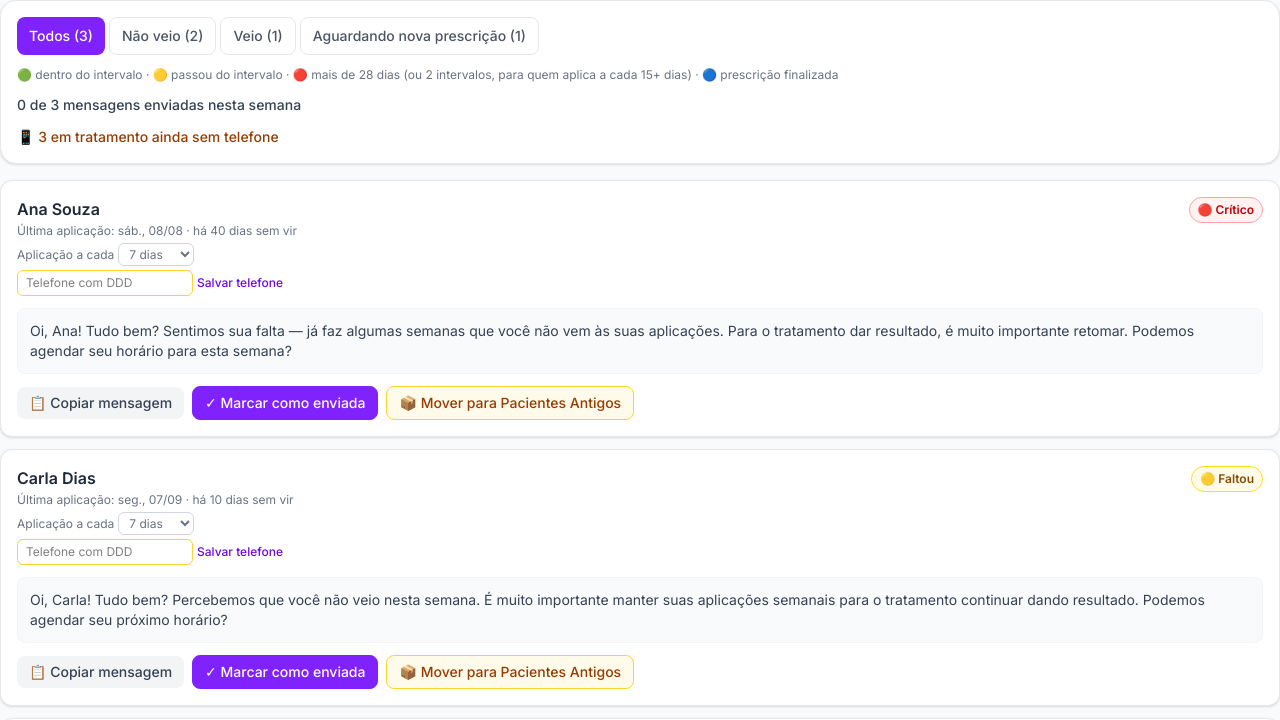
Test: EmTratamento › marca como enviada, mostra quem marcou e atualiza o contador
Expected: the text "0 de 3 mensagens enviadas nesta semana" is shown, [17,96,301,113]
Click the button "✓ Marcar como enviada" below "Carla Dias" at point(285, 672), box [192,655,378,689]
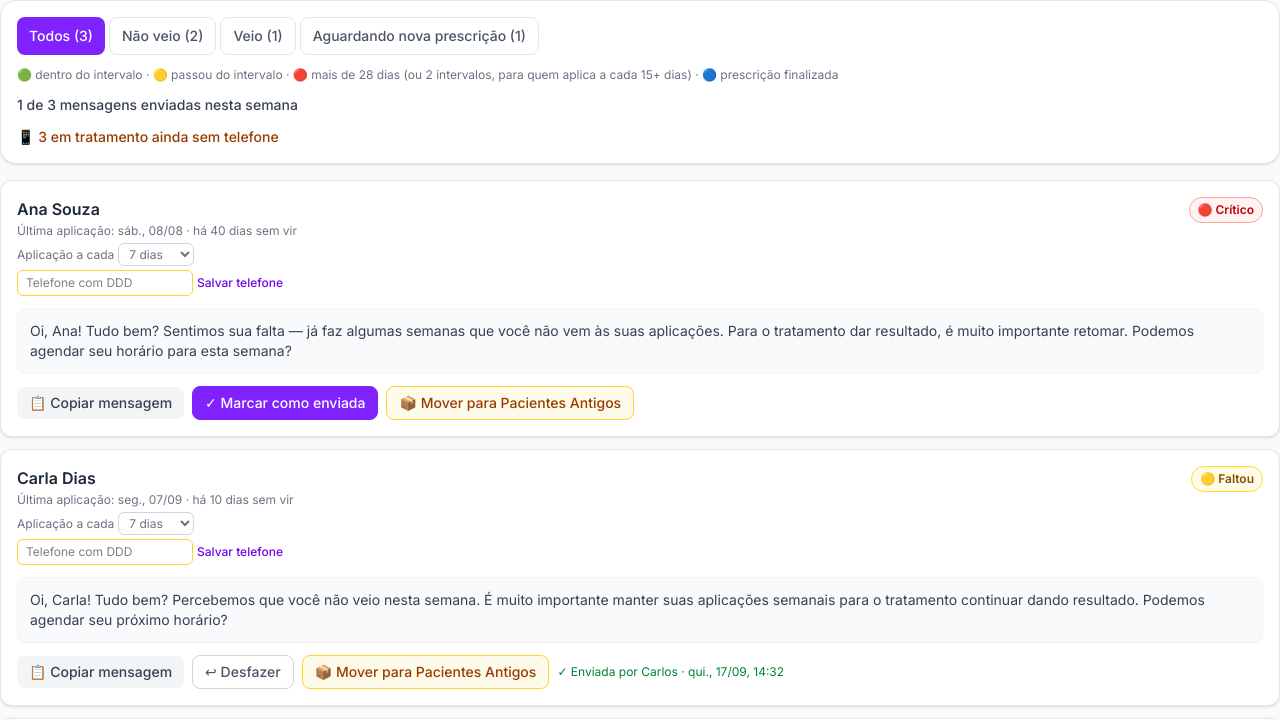
Now the text "✓ Enviada por Carlos · qui., 17/09, 14:32" is shown, box [557,664,784,680]
Now the text "1 de 3 mensagens enviadas nesta semana" is shown, box [17,96,298,113]
